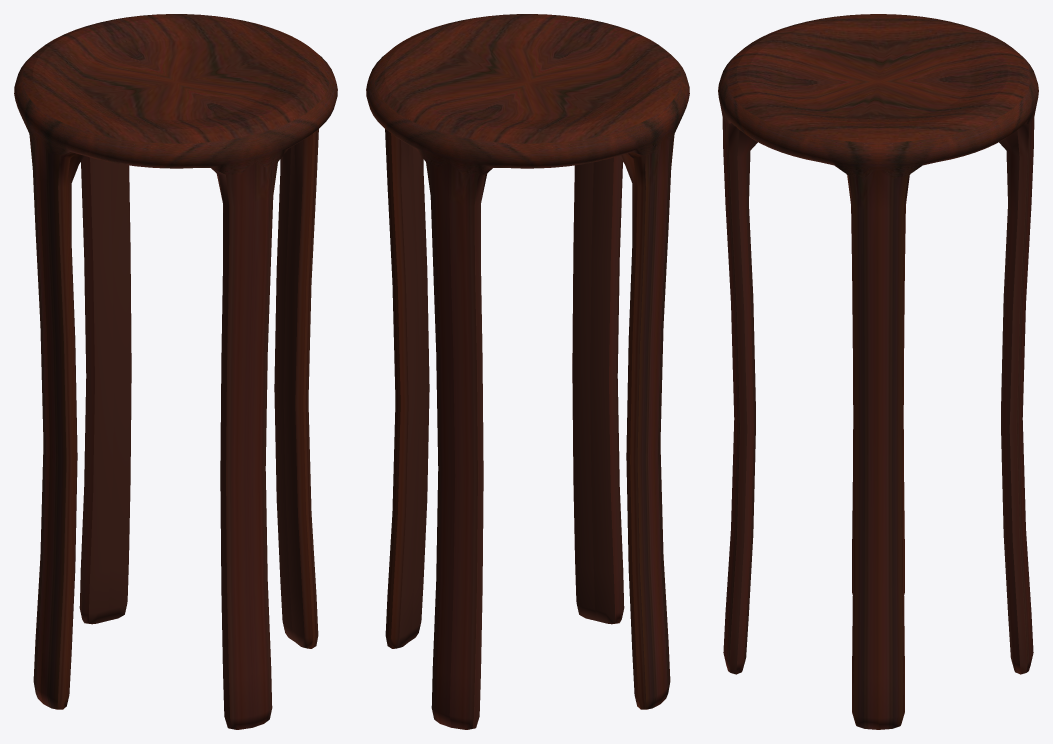
Rendered from Banco.obj.
3 views of the same model, side by side, from view 1: azimuth 30°, elevation 25°; view 2: azimuth 150°, elevation 25°; view 3: azimuth 270°, elevation 25° (orthographic).
Visible parts, largest first — view 1: Cylinder; view 2: Cylinder; view 3: Cylinder.
Boxes of the visible parts, box(x1,y1,x2,y2) form: Cylinder: box(14, 14, 337, 729); Cylinder: box(366, 14, 689, 729); Cylinder: box(718, 14, 1038, 729).
Bounding box in the file's own units: 0.8511 × 1.74 × 0.8511.
Materials: 1 (1 with a texture image).
